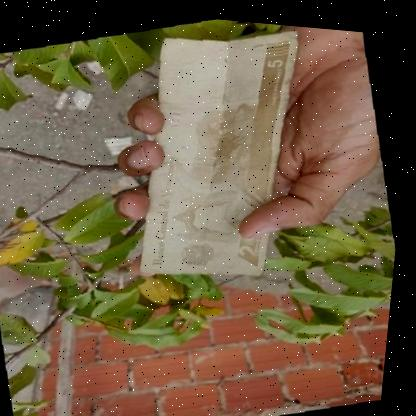vef_back: (95, 8, 347, 298)
